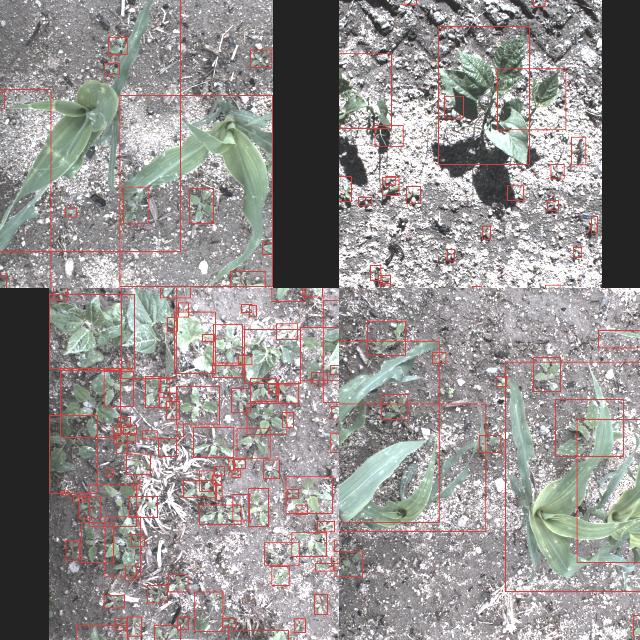crop: (0, 0, 180, 251), (505, 362, 640, 592), (120, 96, 272, 286), (339, 403, 486, 530), (339, 341, 439, 522), (438, 26, 530, 164), (0, 89, 50, 288), (576, 419, 640, 562), (48, 294, 134, 368), (120, 288, 175, 378), (498, 68, 566, 130), (339, 53, 391, 128), (245, 329, 301, 383), (174, 312, 216, 374), (322, 300, 339, 402), (598, 330, 640, 347)
weed: (60, 370, 120, 438), (556, 399, 624, 456), (49, 415, 97, 493), (104, 516, 140, 576), (300, 327, 339, 380), (90, 485, 136, 527), (286, 476, 332, 514), (176, 386, 220, 424), (80, 523, 114, 563), (367, 321, 405, 355), (213, 324, 243, 366), (192, 427, 234, 457), (247, 404, 287, 434), (195, 592, 223, 632), (103, 372, 133, 406), (237, 428, 270, 458), (123, 186, 149, 224), (533, 358, 561, 392), (188, 188, 214, 224), (199, 505, 241, 525), (292, 533, 326, 557), (264, 543, 300, 565), (249, 489, 269, 527), (381, 394, 407, 420), (128, 497, 158, 518), (250, 378, 276, 402), (230, 271, 265, 288), (375, 125, 403, 146), (183, 480, 215, 498), (339, 551, 362, 576), (232, 494, 250, 522), (212, 362, 242, 378), (126, 454, 150, 474), (78, 497, 100, 518), (272, 288, 306, 301), (444, 96, 464, 118), (145, 377, 159, 408), (232, 388, 250, 412), (278, 384, 298, 404), (250, 50, 272, 68), (572, 137, 586, 165), (154, 625, 180, 640), (168, 574, 188, 592), (147, 585, 167, 603), (479, 436, 501, 452), (158, 438, 176, 456), (109, 37, 128, 54), (272, 566, 288, 586), (126, 616, 142, 636), (276, 324, 298, 338), (382, 177, 398, 196), (264, 459, 280, 478), (339, 176, 351, 201), (65, 540, 79, 560), (314, 594, 328, 614), (200, 471, 214, 491), (406, 186, 420, 204), (104, 596, 124, 608), (167, 401, 180, 419), (508, 186, 524, 200), (113, 433, 135, 443), (115, 433, 126, 452), (552, 164, 564, 180), (282, 412, 294, 428), (318, 520, 334, 532), (311, 372, 327, 383), (130, 535, 144, 547), (125, 566, 137, 580), (294, 619, 306, 633), (104, 64, 120, 74), (303, 288, 323, 296), (331, 433, 339, 453), (53, 288, 67, 299), (432, 352, 446, 363), (315, 563, 333, 571), (114, 618, 126, 630), (370, 266, 380, 280), (178, 303, 188, 317), (167, 317, 177, 331), (160, 378, 170, 392), (122, 425, 136, 435), (222, 618, 236, 628), (178, 616, 188, 630), (633, 616, 640, 636), (378, 275, 390, 285), (158, 397, 170, 407), (118, 417, 130, 427), (296, 505, 308, 515), (358, 198, 372, 206), (142, 431, 156, 439), (238, 356, 252, 364), (263, 243, 273, 254), (591, 216, 597, 234), (234, 459, 246, 468), (482, 227, 490, 240), (548, 200, 558, 210), (120, 361, 130, 371), (268, 384, 278, 394), (214, 466, 224, 476), (212, 474, 222, 484), (496, 376, 506, 386), (240, 304, 252, 312), (202, 334, 214, 342), (331, 407, 339, 419), (386, 177, 396, 186), (288, 489, 298, 498), (216, 486, 222, 500), (330, 365, 339, 374), (66, 208, 76, 216), (574, 247, 582, 257), (249, 306, 257, 316), (331, 557, 339, 567), (177, 424, 183, 436), (228, 459, 234, 471), (73, 495, 85, 501), (170, 392, 177, 402), (533, 0, 544, 6), (334, 563, 339, 576), (448, 250, 454, 260), (107, 468, 113, 478), (133, 480, 139, 490), (232, 469, 240, 476), (334, 540, 339, 551), (112, 428, 120, 434), (60, 490, 68, 496), (380, 284, 390, 288), (472, 286, 481, 288)
